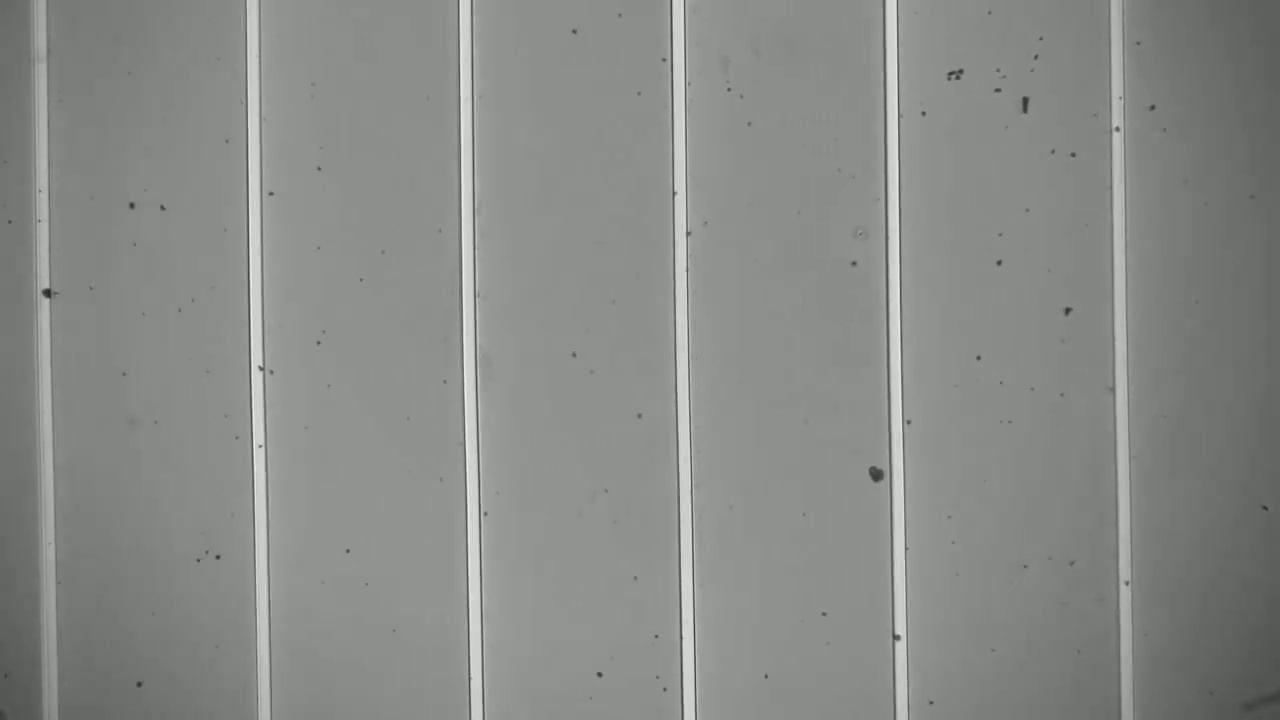stains_enbedded: (32, 282, 60, 311), (885, 629, 915, 647)
